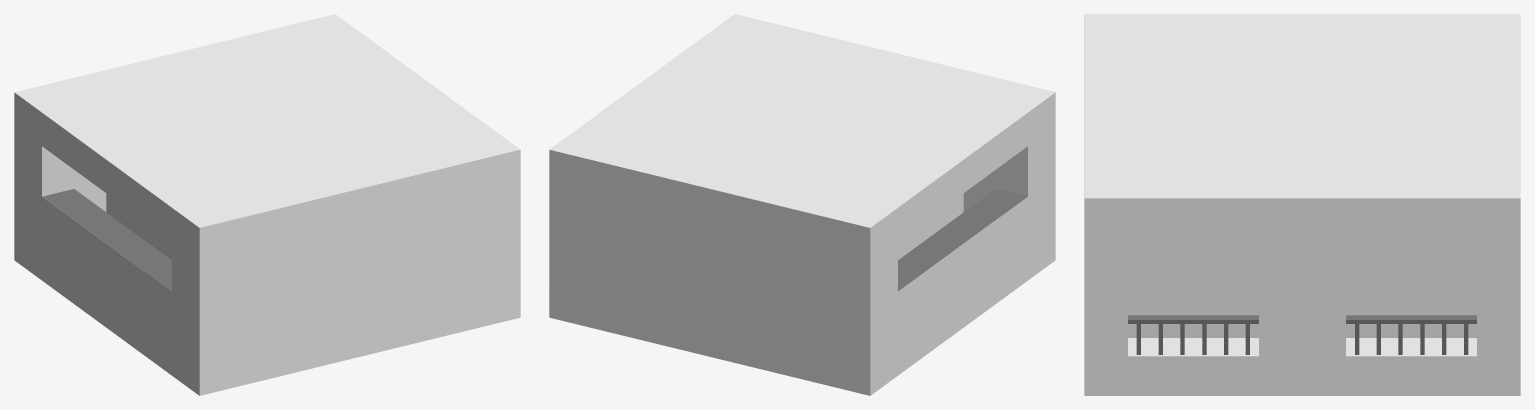
Rendered from building.obj.
3 renders of one model, left to right at view 1: azimuth 30°, elevation 25°; view 2: azimuth 150°, elevation 25°; view 3: azimuth 270°, elevation 25°, orthographic. The views are drawn at different scales.
Visible parts, largest first — view 1: 立方体; view 2: 立方体; view 3: 立方体.
Part boxes in pixels (left/top/right/bottom): 立方体: left=14, top=14, right=520, bottom=395; 立方体: left=549, top=14, right=1055, bottom=395; 立方体: left=1084, top=14, right=1520, bottom=395.
Bounding box in the file's own units: 2 × 1 × 2.
1 material, 1 textured.
